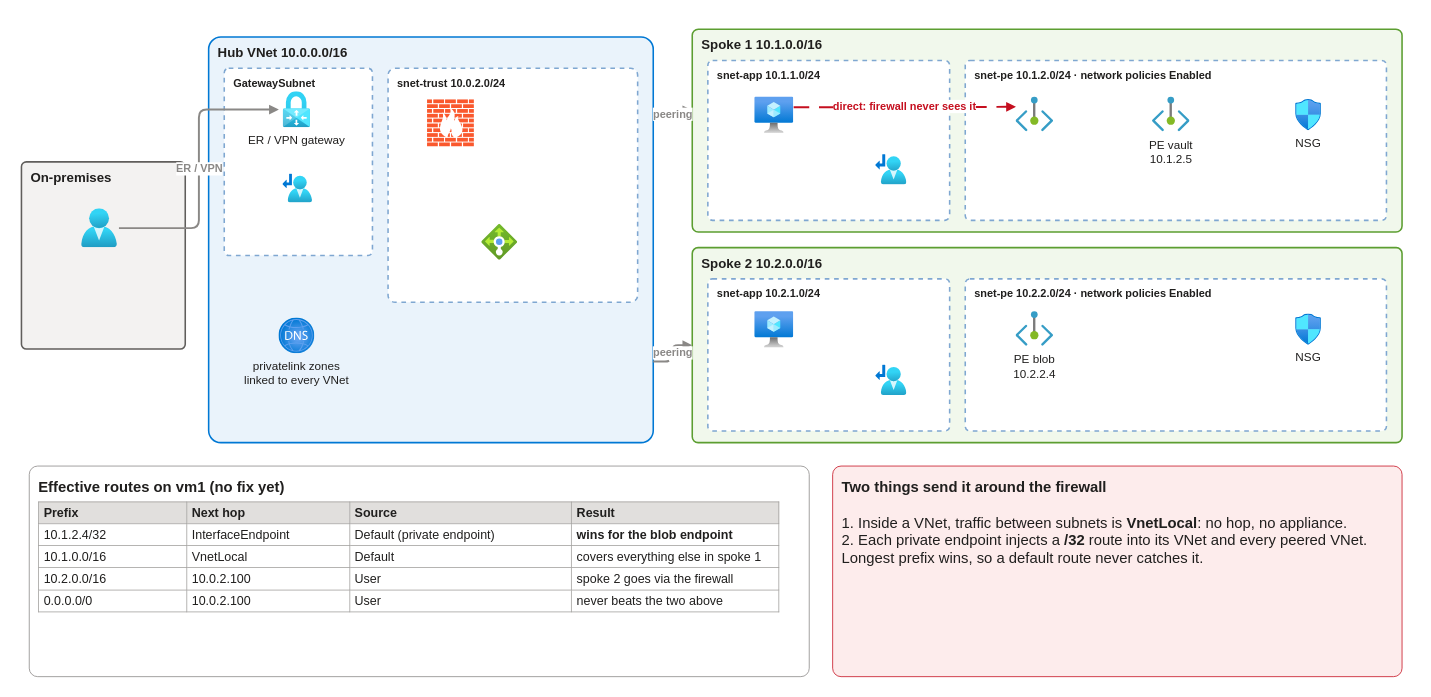
This 1431x697 diagram has some shape labels left out. The centre of each missing label's shape, as x and y in pixels:
"Clients 172.16.0.0/16" belongs at [99,227].
"ILB · HA ports 10.0.2.100" belongs at [499,242].
"PE blob 10.1.2.4" belongs at [1034,114].
"rt-gateway" belongs at [297,188].
"rt-spoke1-app" belongs at [890,169].
"rt-spoke2-app" belongs at [890,379].
"VM-Series 10.0.2.4" belongs at [450,122].
"vm1 10.1.1.4" belongs at [773,114].
"vm2 10.2.1.4" belongs at [773,329].
